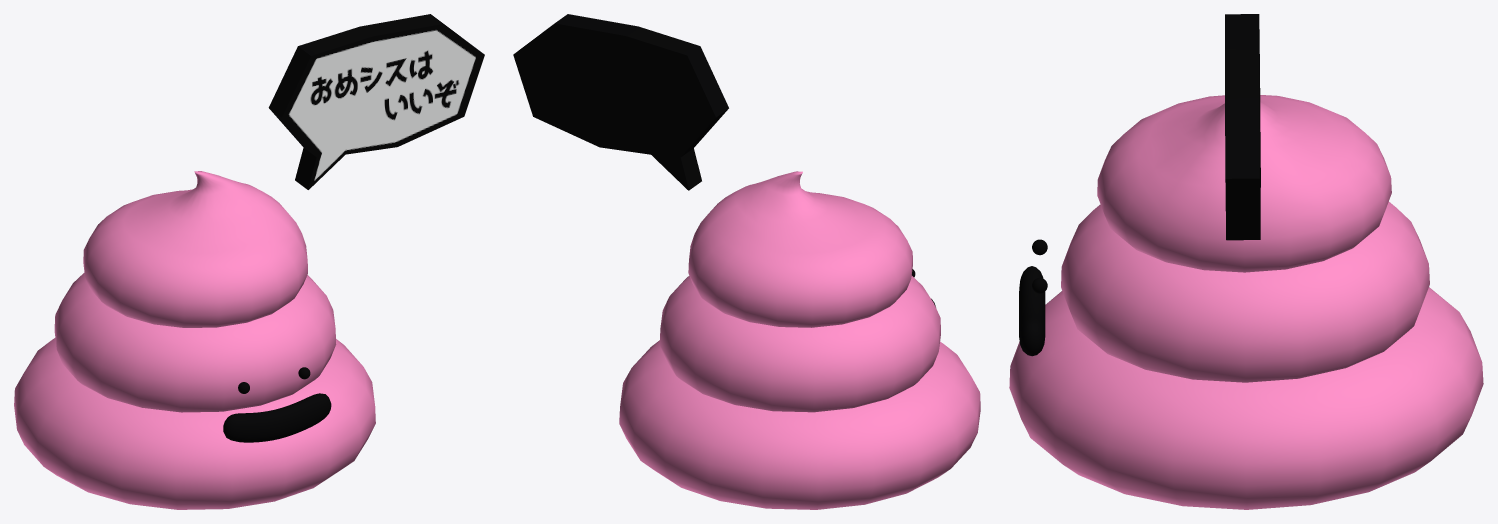
The model's file is unchan_pink_text.gltf.
The picture shows the model from 3 angles, left to right: view 1: azimuth 30°, elevation 25°; view 2: azimuth 150°, elevation 25°; view 3: azimuth 270°, elevation 25°; orthographic projection. The views are drawn at different scales.
Parts seen in each view (by area): view 1: layer_1, layer_2, layer_3, layer_6, layer_5; view 2: layer_1, layer_2, layer_3, layer_6; view 3: layer_1, layer_3, layer_2, layer_6, layer_5.
Boxes of the visible parts, <box> form: layer_1: <box>14,338,375,509</box>; layer_2: <box>83,171,307,327</box>; layer_3: <box>54,272,336,412</box>; layer_6: <box>268,14,484,189</box>; layer_5: <box>223,393,331,442</box>; layer_1: <box>619,340,980,509</box>; layer_2: <box>688,171,912,327</box>; layer_3: <box>659,275,940,412</box>; layer_6: <box>513,14,728,190</box>; layer_1: <box>1009,287,1483,509</box>; layer_3: <box>1061,201,1429,382</box>; layer_2: <box>1097,95,1391,272</box>; layer_6: <box>1225,14,1260,240</box>; layer_5: <box>1019,266,1045,356</box>.
Size of the model in its own units: 4.87 by 4.01 by 3.49.
6 materials, 6 textured.
